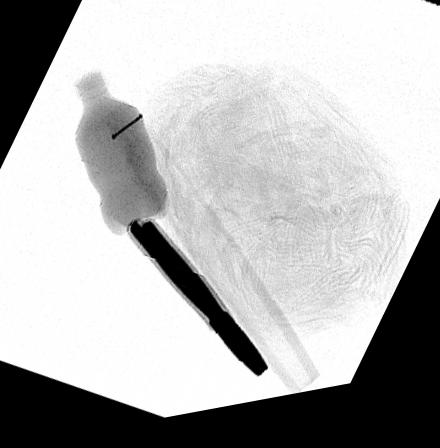Pliers: (125, 226, 270, 387)
